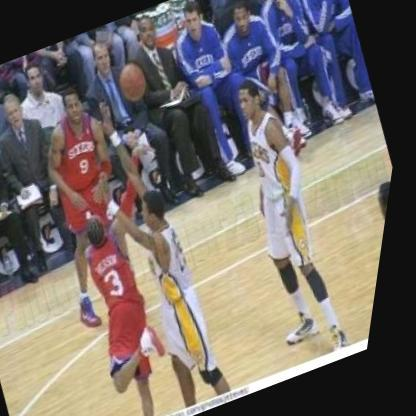basketball: (106, 53, 165, 110)
